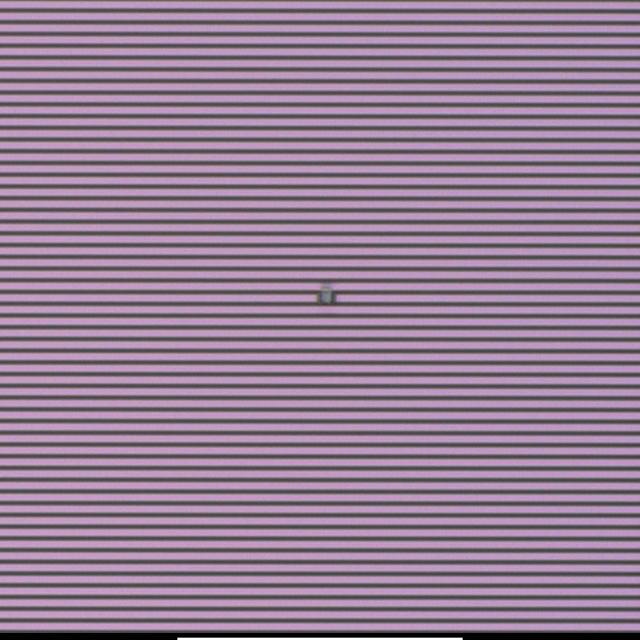03_intrusion: (306, 276, 346, 312)
